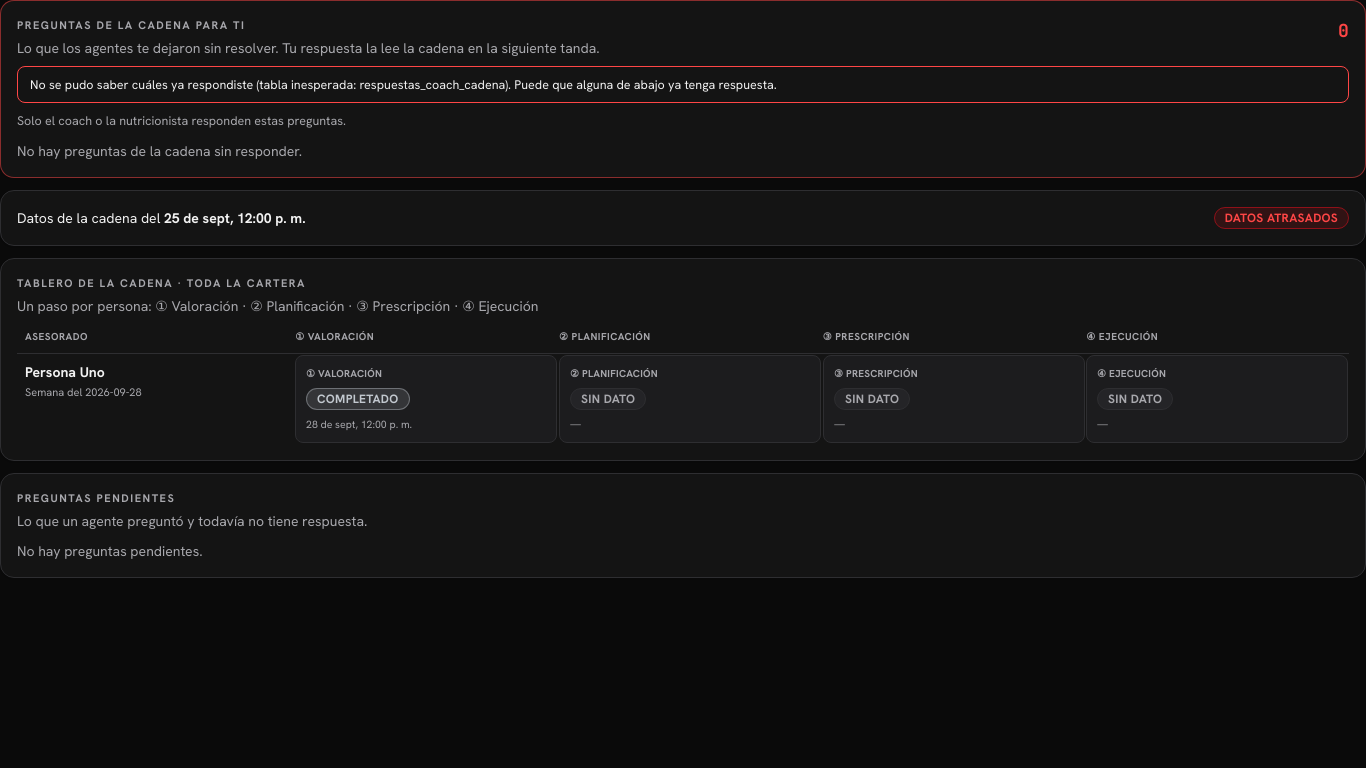
Test case: AgentesTab › clic en una casilla con evento muestra el resumen del paso
Check: the text "Persona Uno" is shown, box [25, 363, 105, 381]
Check: the text "Valoración: zona verde, sin hallazgos." is not shown
Click the button "① Valoración Completado 28 de sept, 12:00 p. m." at (344, 373), box [295, 355, 557, 443]
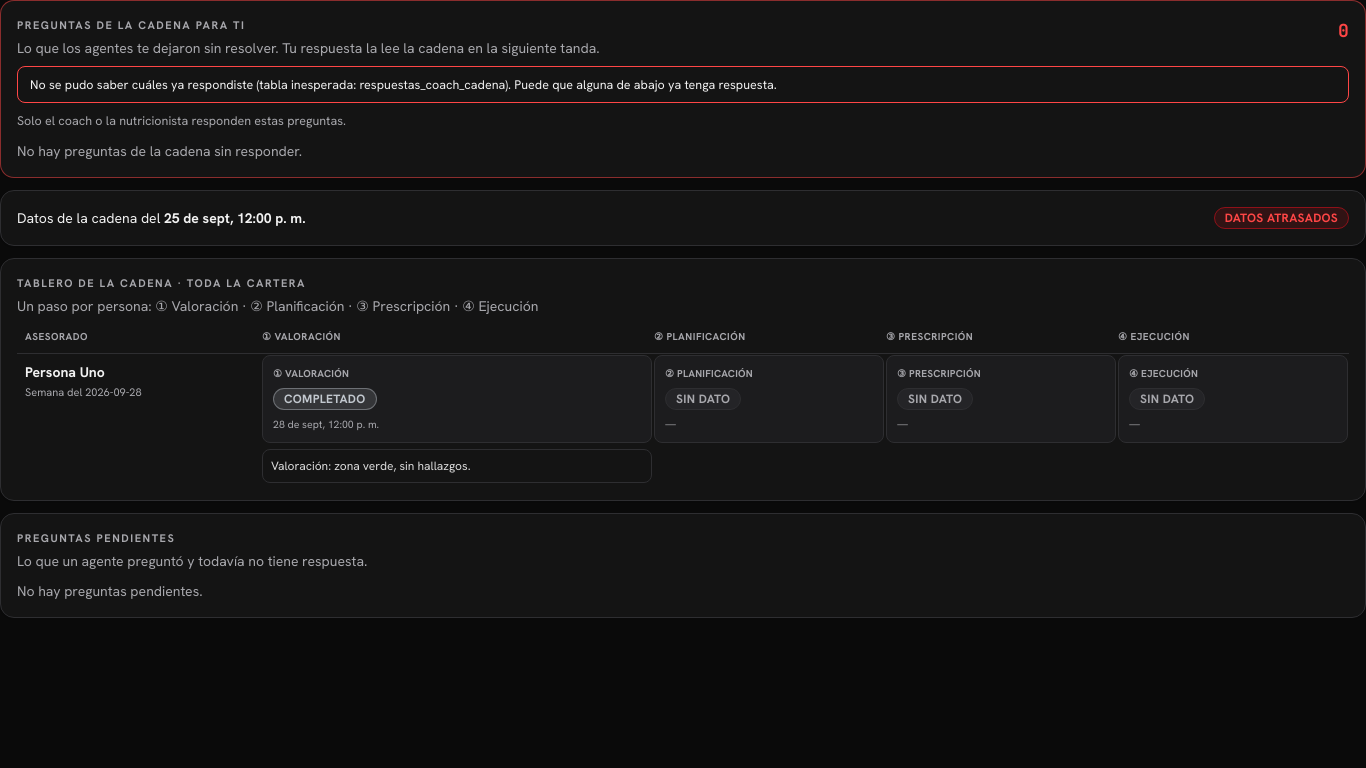
Check: the text "Valoración: zona verde, sin hallazgos." is shown, box [271, 458, 470, 474]
